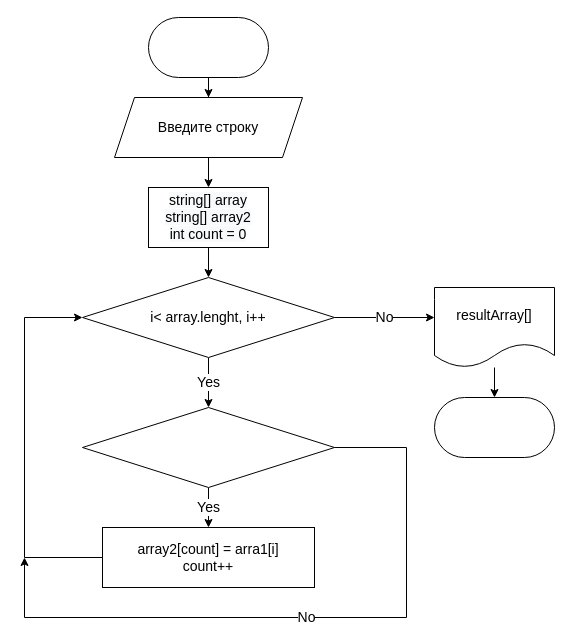
The diagram is 572 pixels wide and 643 high, and some of its shapes have lost their labels. The centre of each missing label's shape, as x and y in pixels:
array1[i] <=3: [208,447]
Конец: [494,427]
Начало: [208,47]
